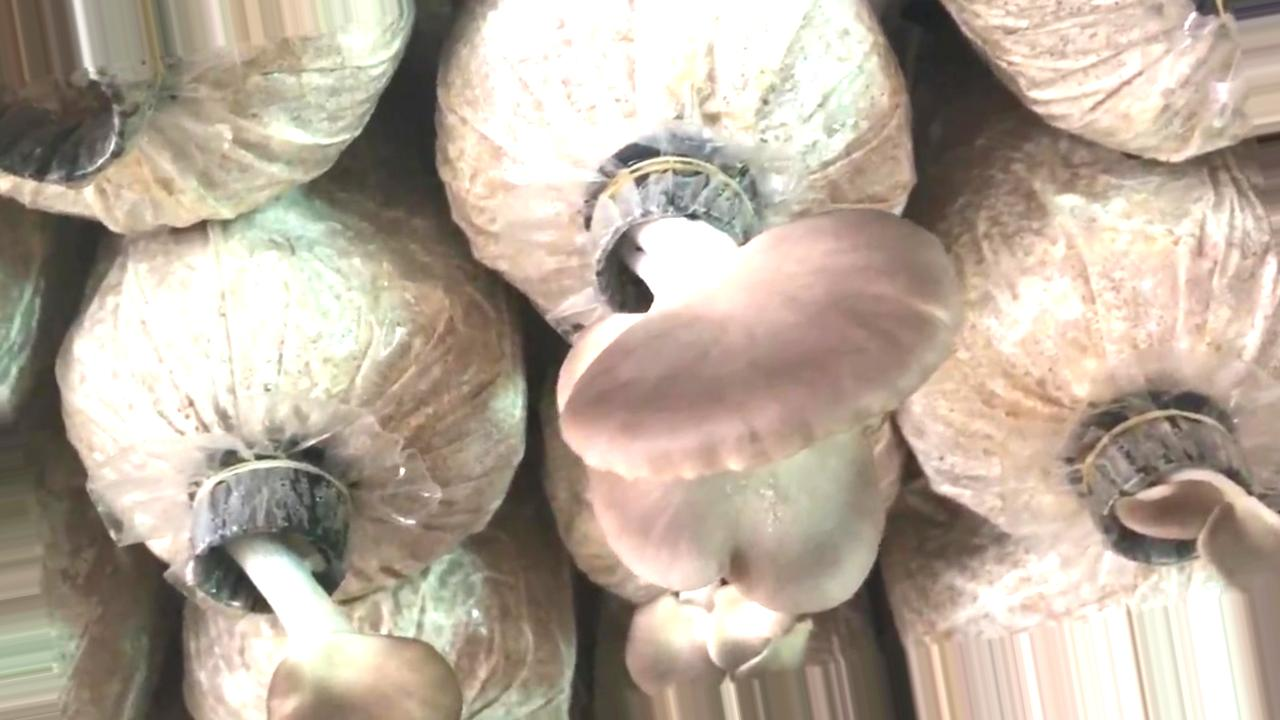nam: (559, 167, 958, 613), (194, 467, 462, 720), (1100, 414, 1280, 596), (627, 591, 811, 695)
